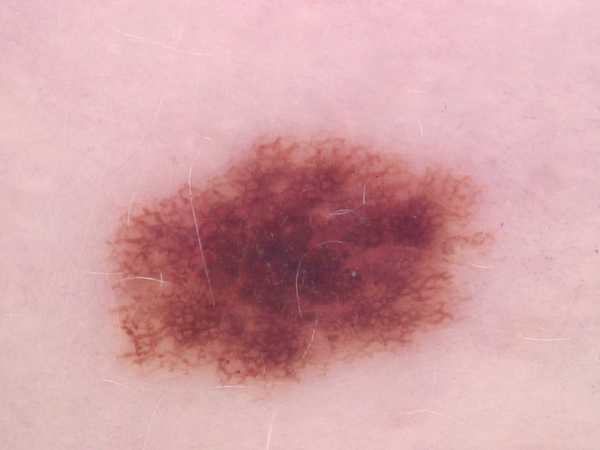Detected Lesion: (102, 132, 493, 383)
